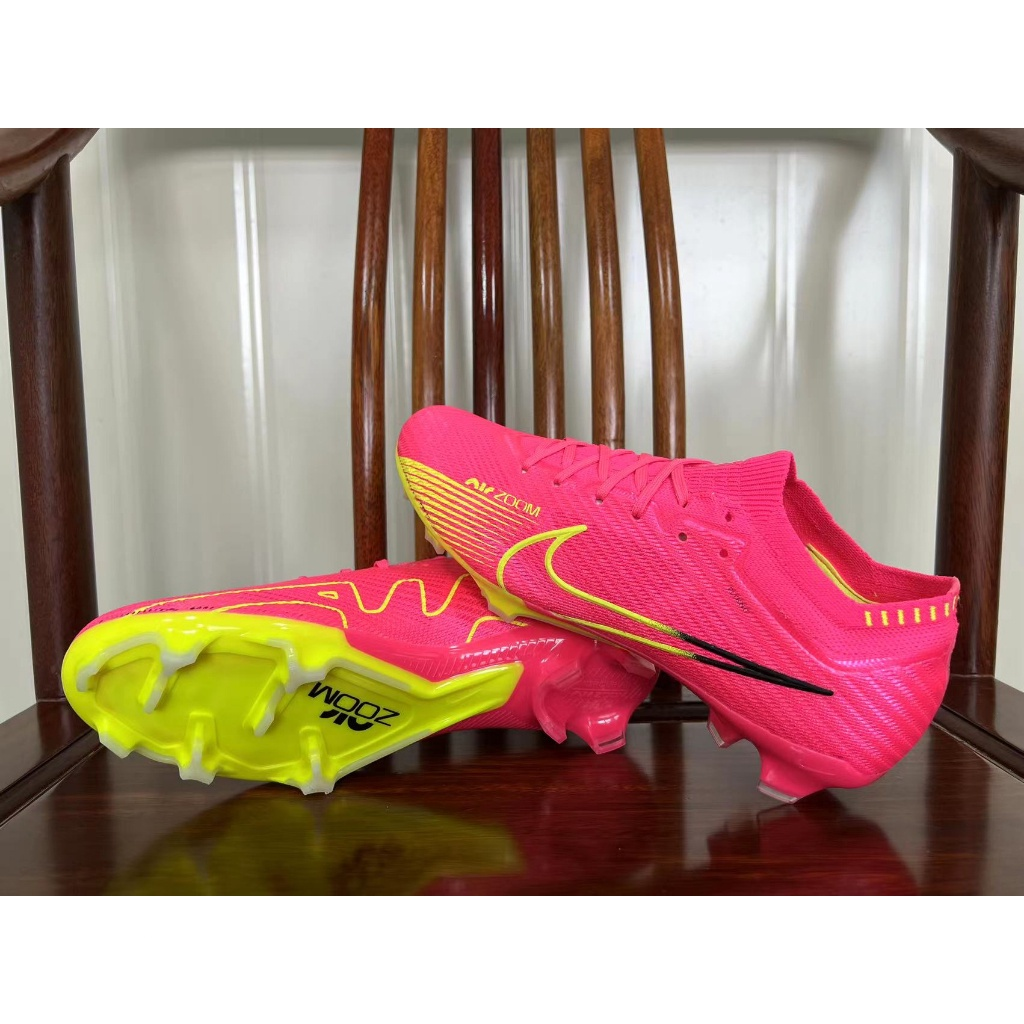soccer shoes: (393, 399, 959, 808), (60, 552, 662, 799)
